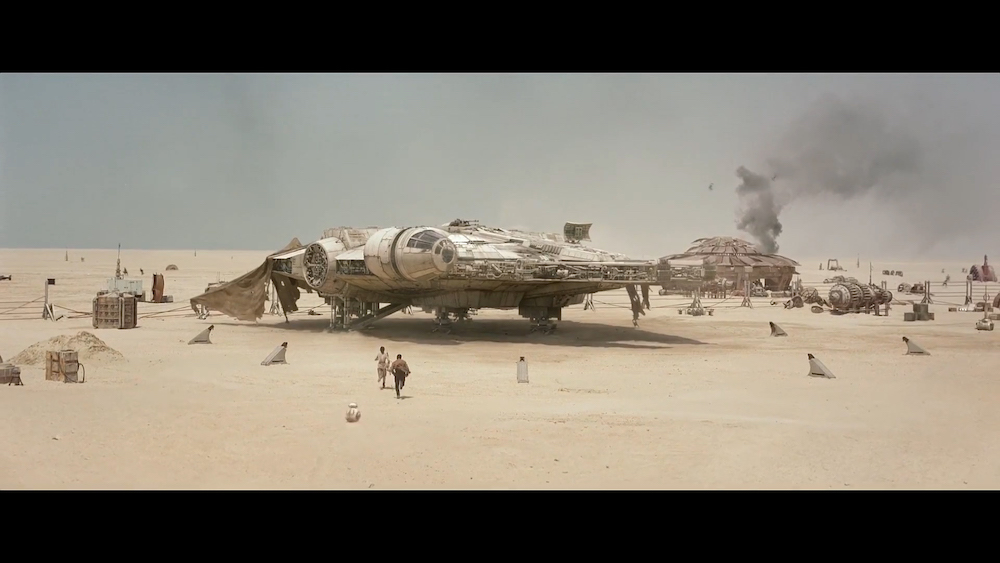Millennium Falcon: (265, 220, 716, 307)
Tie Fighter: (772, 175, 779, 182), (708, 183, 714, 191)
